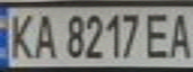1: (103, 10, 124, 60)
2: (84, 10, 106, 60)
7: (121, 10, 142, 60)
8: (60, 10, 87, 60)
A: (30, 10, 60, 61), (166, 9, 193, 60)
E: (142, 9, 175, 60)
K: (3, 9, 39, 61)
